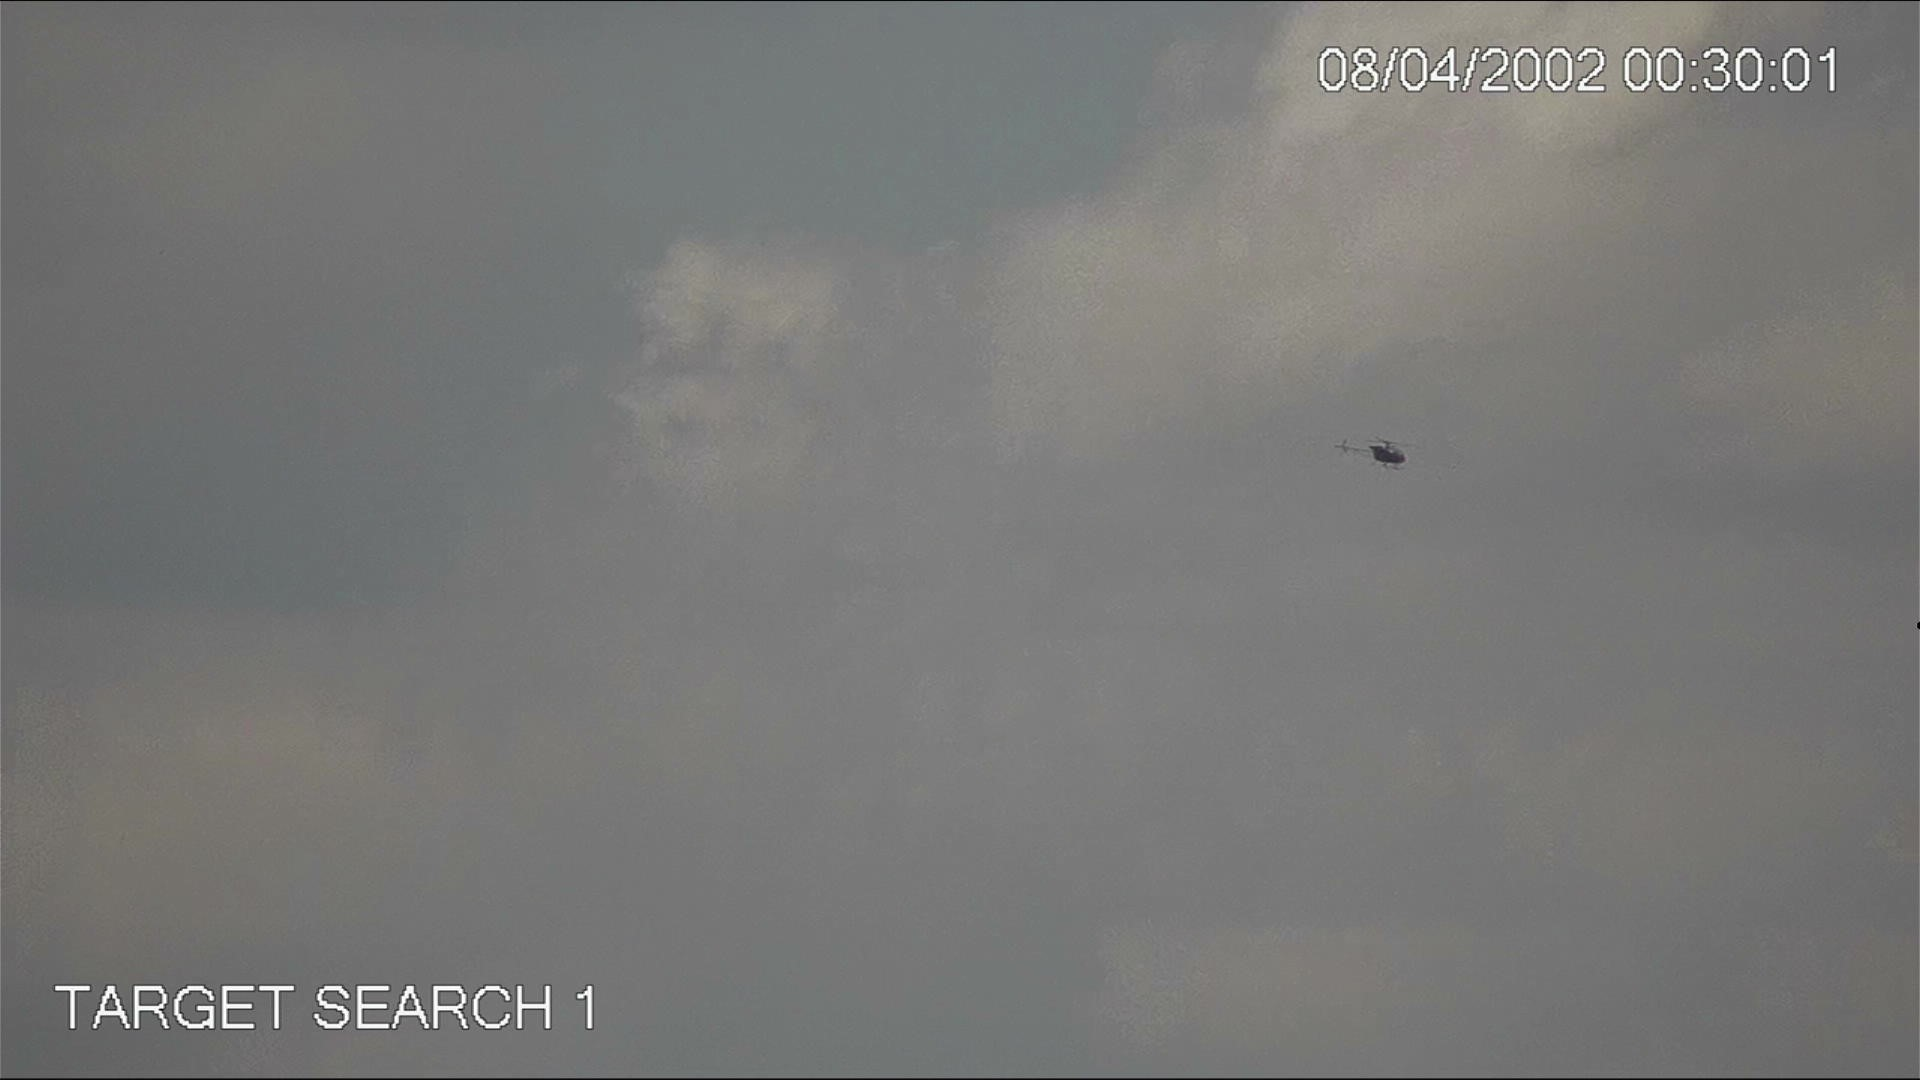SU_30: (1335, 433, 1422, 473)
